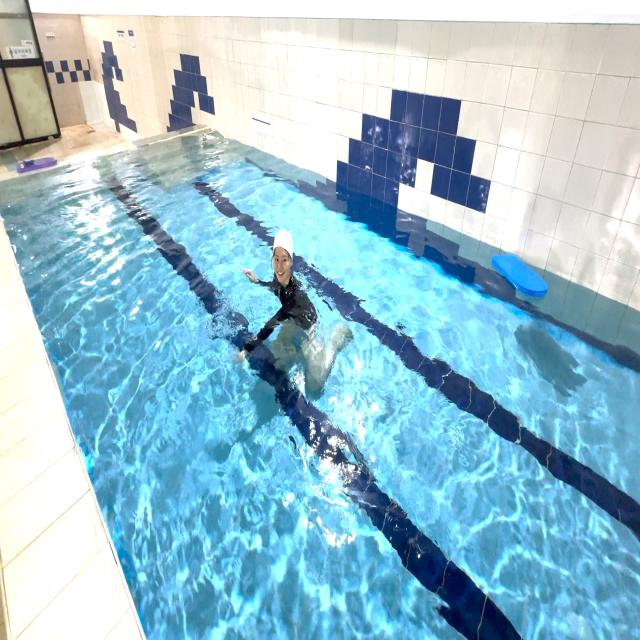Swimming: (222, 187, 362, 420)
